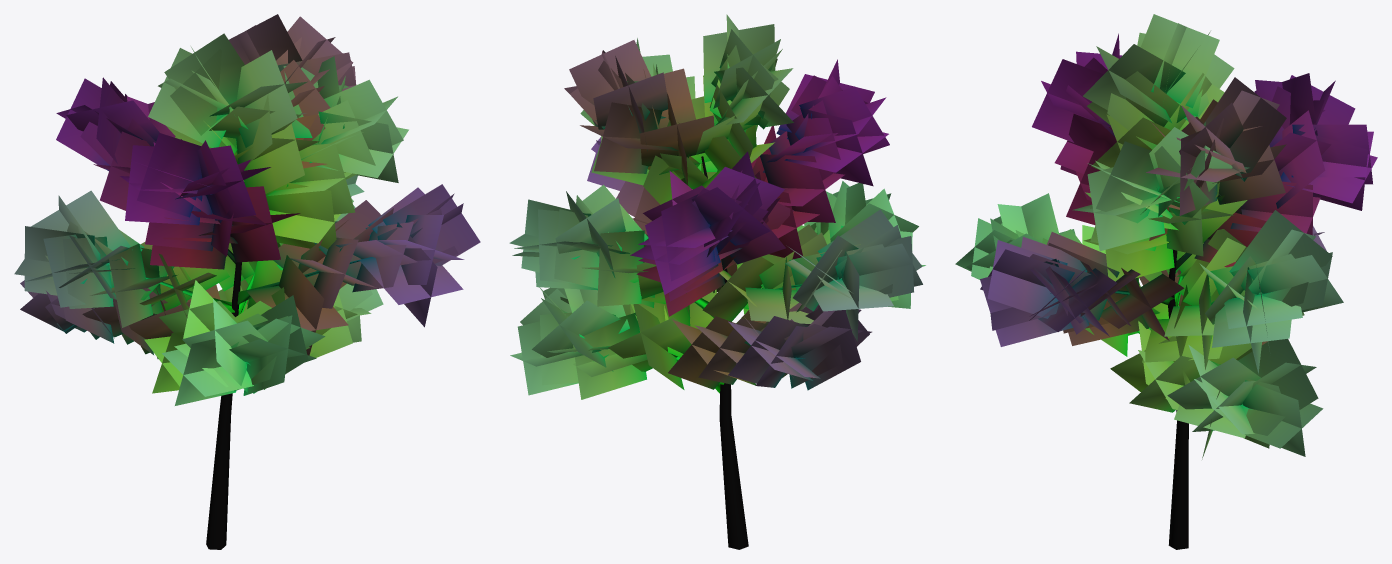
Rendered from URP_P3_Tree_2_LOD_3.fbx.
3 renders of one model, left to right at view 1: azimuth 30°, elevation 25°; view 2: azimuth 150°, elevation 25°; view 3: azimuth 270°, elevation 25°, orthographic. The views are drawn at different scales.
Visible parts, largest first — view 1: Tree_2_LOD_3; view 2: Tree_2_LOD_3; view 3: Tree_2_LOD_3.
Part boxes in pixels (x1,y1,x2,y2): Tree_2_LOD_3: (14, 14, 480, 549); Tree_2_LOD_3: (509, 14, 925, 549); Tree_2_LOD_3: (955, 14, 1377, 549).
Bounding box in the file's own units: 638 × 823 × 599.
